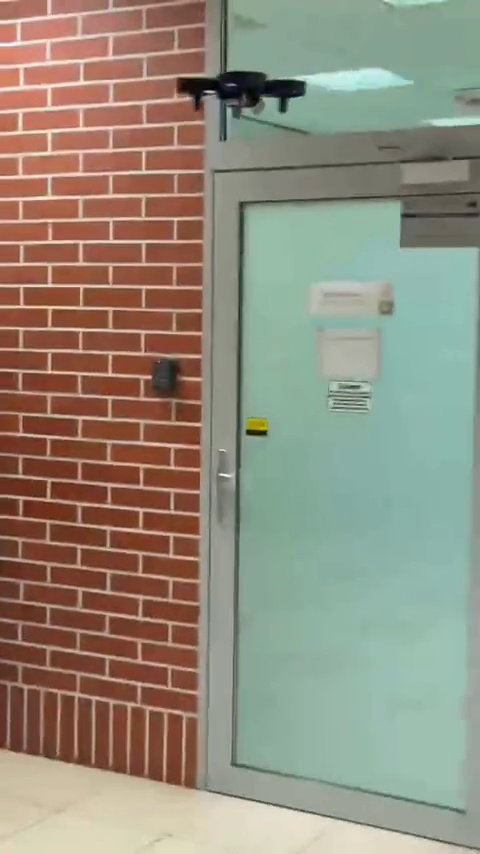drone: (174, 69, 309, 123)
